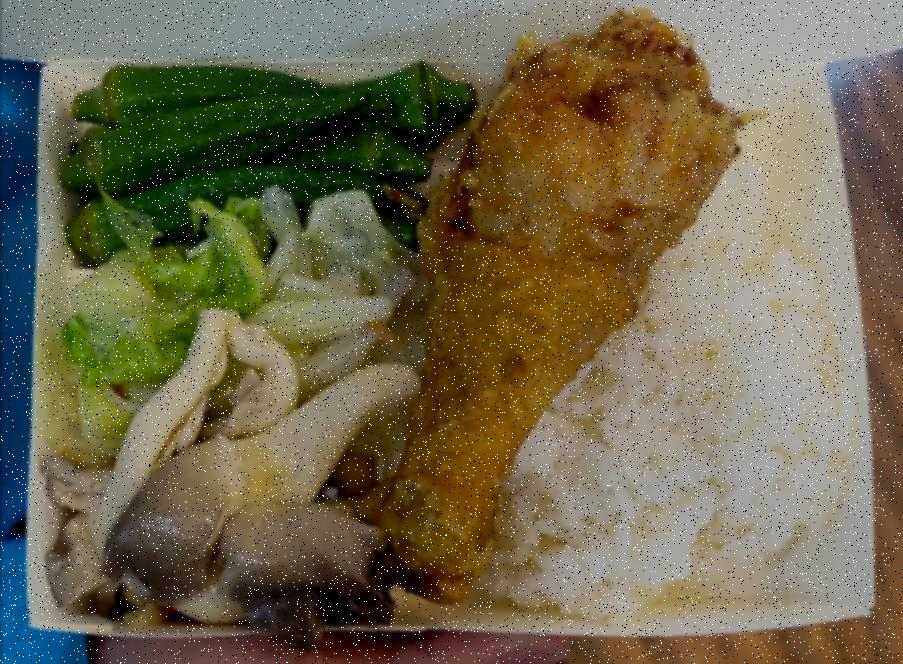box: (16, 53, 888, 647)
side dish: (40, 302, 415, 632), (52, 211, 410, 460), (58, 57, 475, 264)
small fried chicken leg: (376, 15, 744, 604)
white rice: (404, 114, 850, 618)
